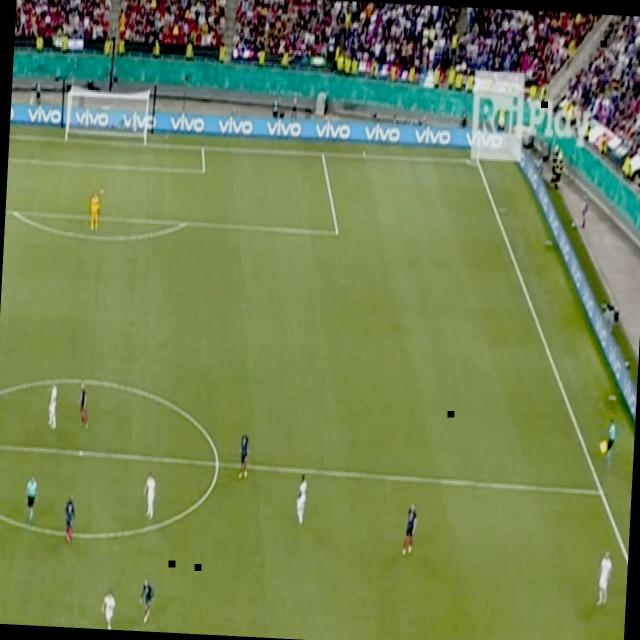player-white: (594, 544, 614, 616), (399, 497, 421, 562), (22, 471, 41, 535), (58, 489, 78, 549), (138, 468, 158, 524), (235, 423, 253, 485), (292, 468, 310, 530), (135, 574, 156, 626), (602, 413, 618, 479), (44, 376, 60, 434), (75, 376, 92, 428), (98, 586, 118, 630), (86, 186, 104, 234)
